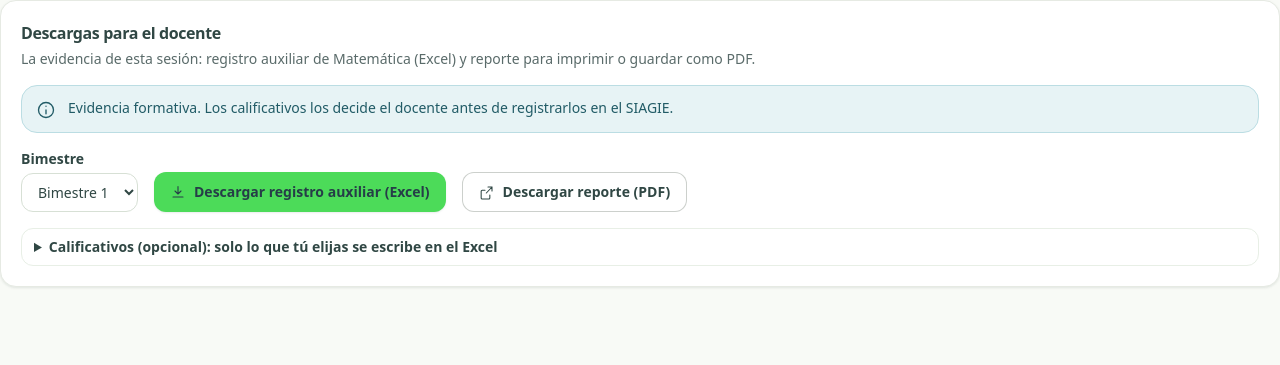
Test case: RegistroAuxiliar › downloads with NO grades when the teacher chose none
This screenshot has width=1280, height=365.
Click the button "Descargar registro auxiliar (Excel)" at coordinates (300, 192), box [154,172,446,212]
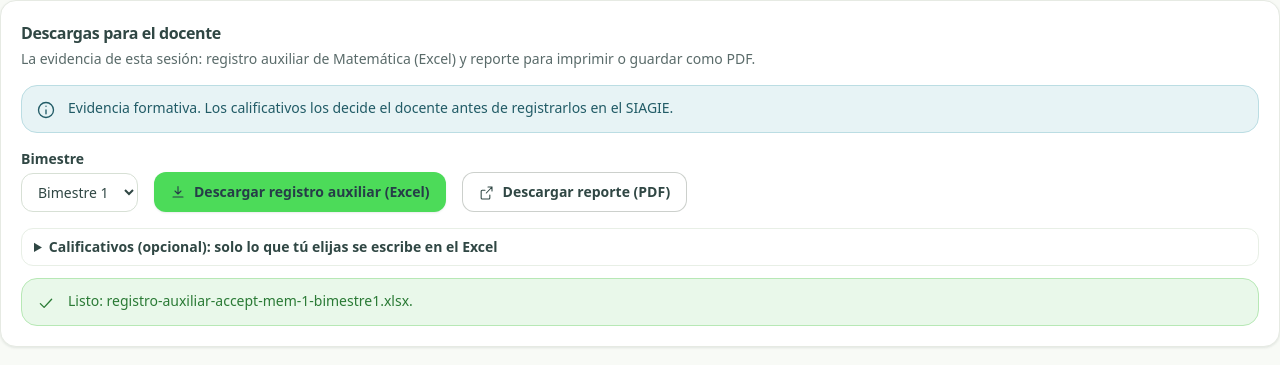
Result: the text "Listo: registro-auxiliar-accept-mem-1-bimestre1.xlsx." is shown at [68,291,413,310]
